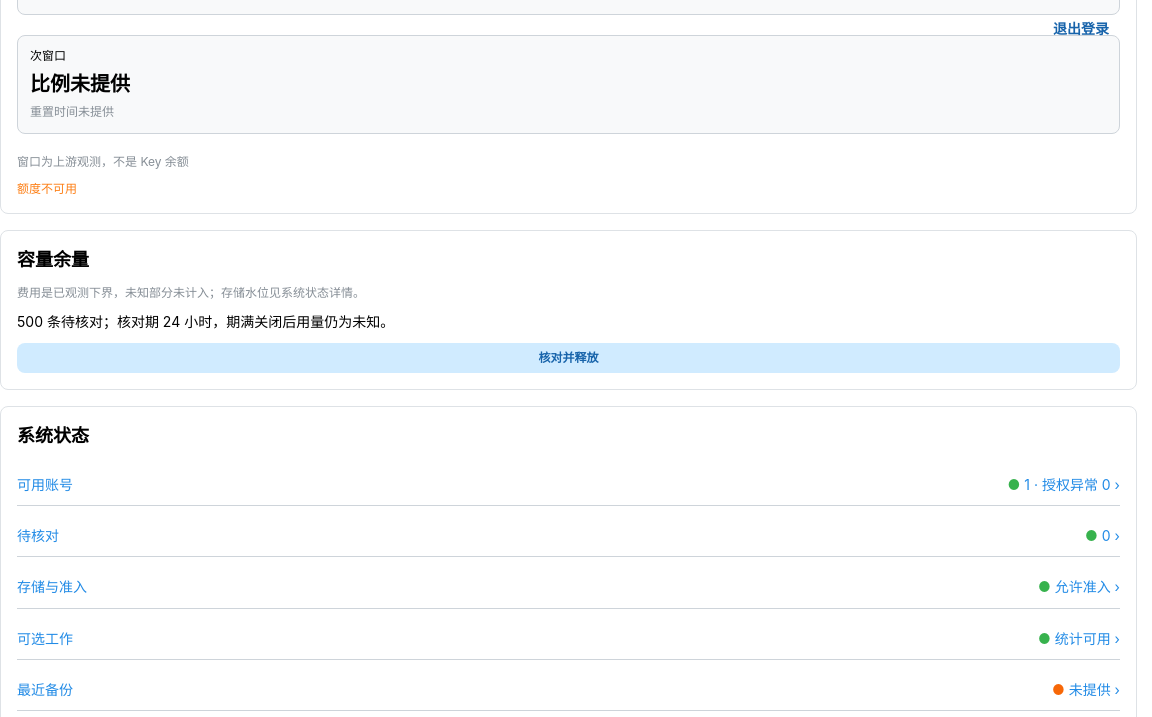
refreshes changed counts after a conflict without replaying release
(page scrolled)
Click the button "核对并释放" at (568, 358), box [17,342,1120,372]
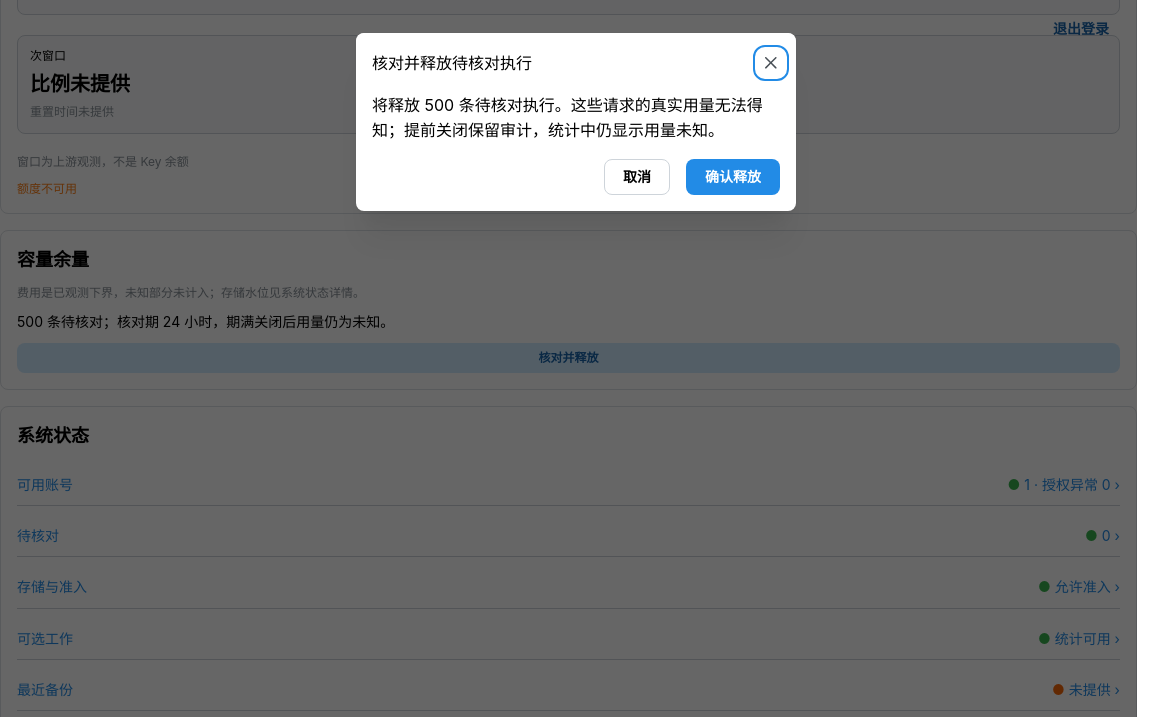
Click the button "确认释放" at (733, 177), box [686,159,780,195]
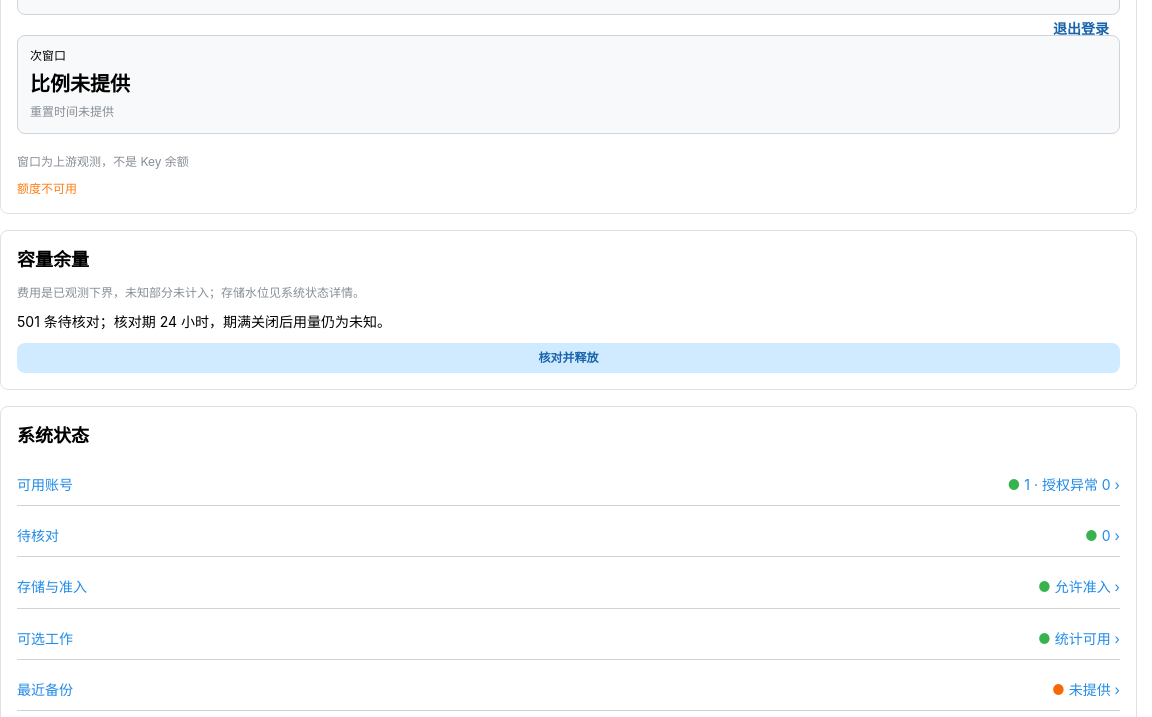
Expected: the text "501 条待核对；核对期 24 小时，期满关闭后用量仍为未知。" is shown, [17,313,391,330]
